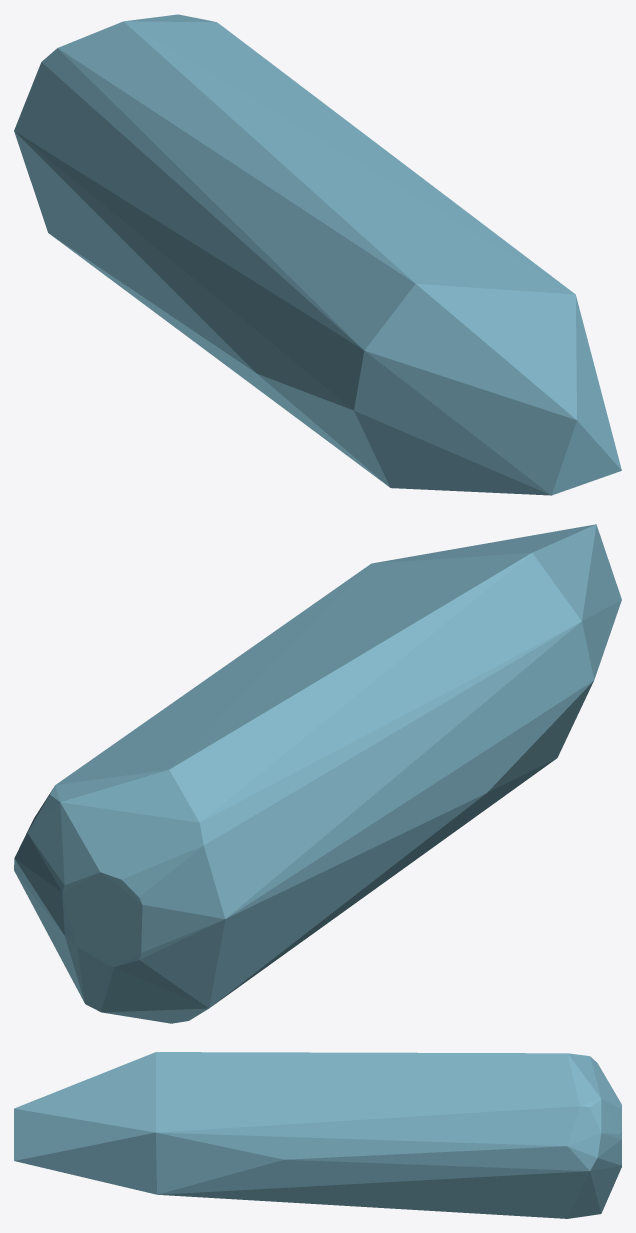
File: food_beverage_bottledWater_b01.glb
3 views of the same model, one above another, from view 1: azimuth 30°, elevation 25°; view 2: azimuth 150°, elevation 25°; view 3: azimuth 270°, elevation 25° (orthographic). The views are drawn at different scales.
Visible parts, largest first — view 1: geometry_0; view 2: geometry_0; view 3: geometry_0.
Part boxes in pixels (box(x1,y1,x2,y2)): geometry_0: box(14, 14, 621, 495); geometry_0: box(14, 524, 621, 1023); geometry_0: box(14, 1052, 621, 1218).
Size of the model in its own units: 0.1356 by 0.1338 by 0.48.
